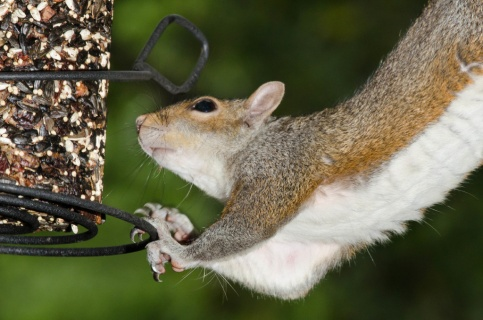Squirrel: (106, 0, 482, 302)
